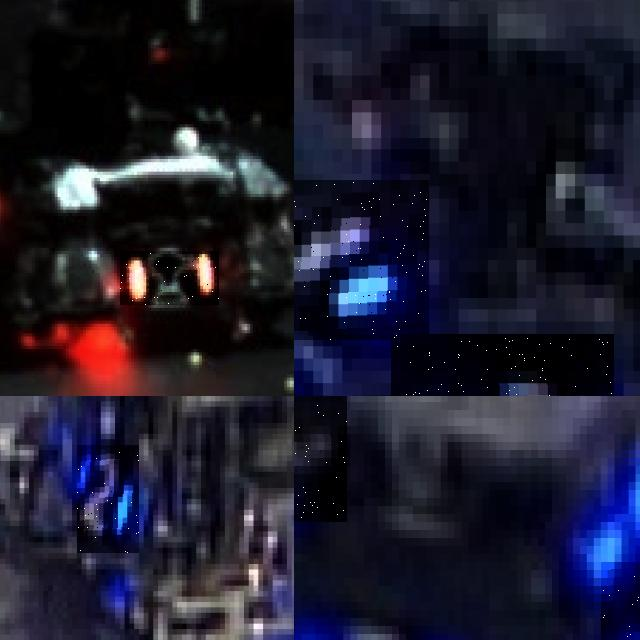B2: (77, 445, 139, 553)
B3: (294, 180, 429, 340), (391, 333, 614, 396), (294, 396, 347, 522), (294, 602, 468, 640)
Rs: (120, 251, 219, 305)
